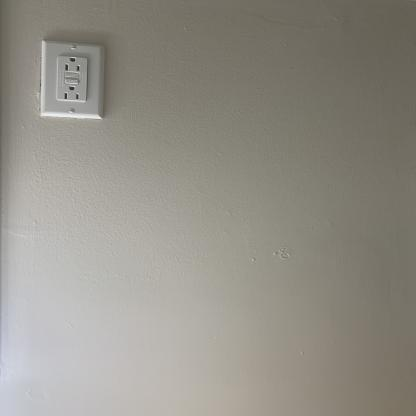OUTLET: (40, 42, 108, 118)
